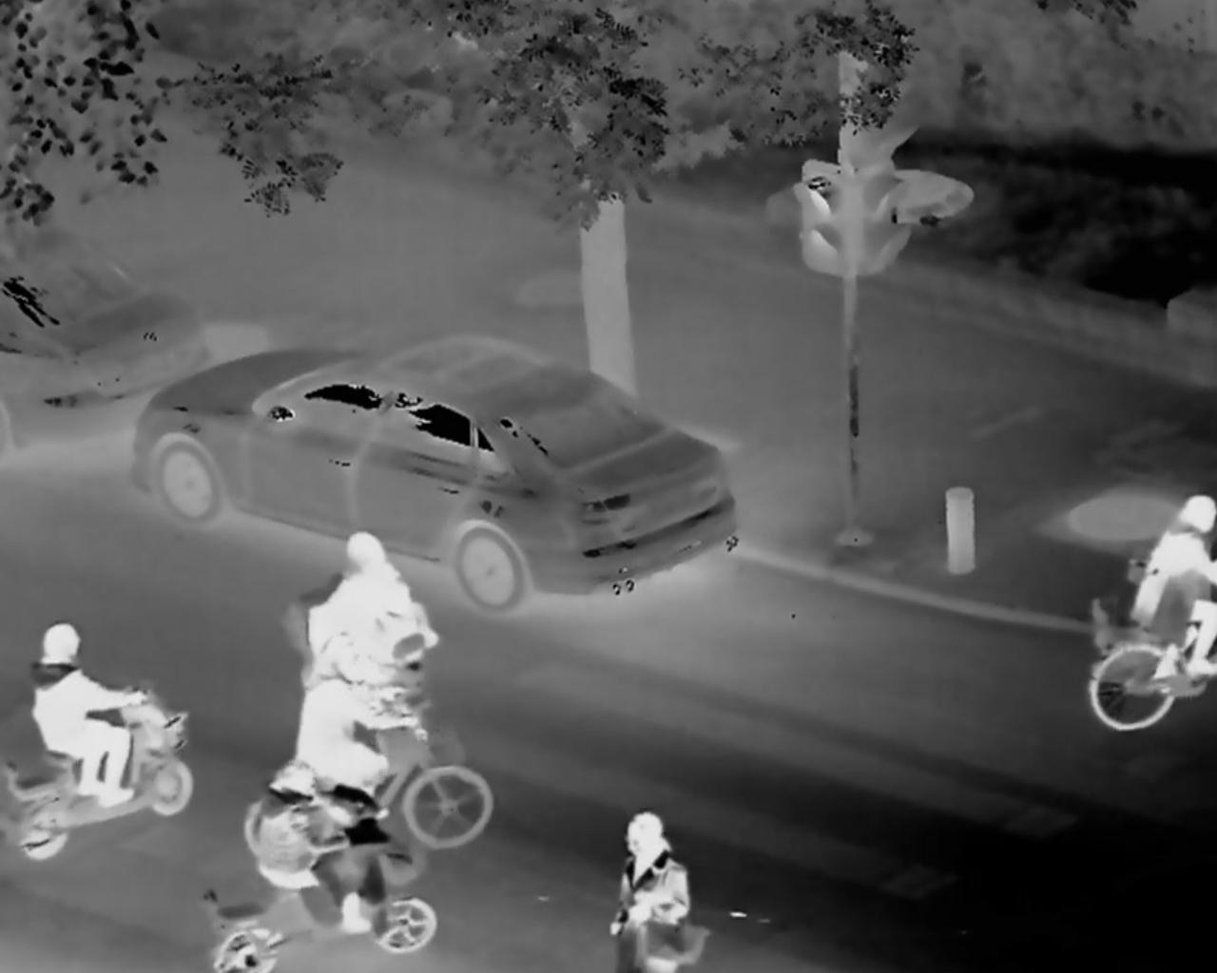person: (295, 529, 449, 754), (246, 760, 390, 937), (23, 614, 148, 816), (1112, 484, 1217, 715), (604, 807, 727, 973)
